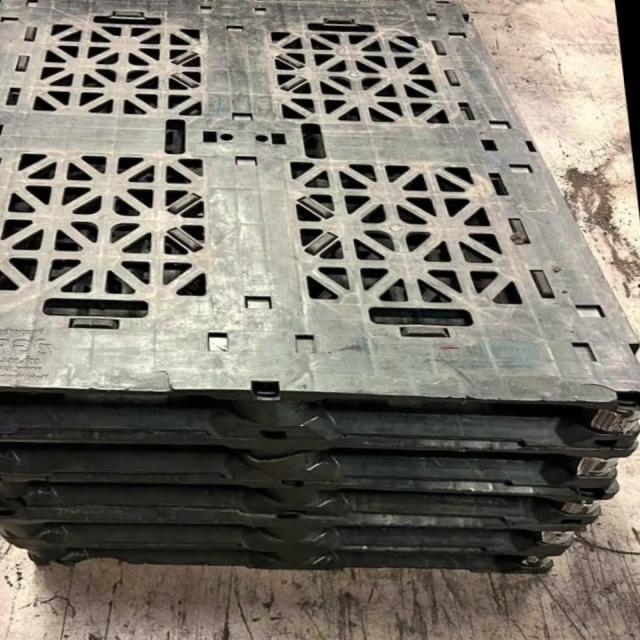igps: (0, 0, 640, 461), (0, 438, 640, 508), (0, 476, 605, 533), (0, 518, 580, 558), (0, 542, 556, 578)
